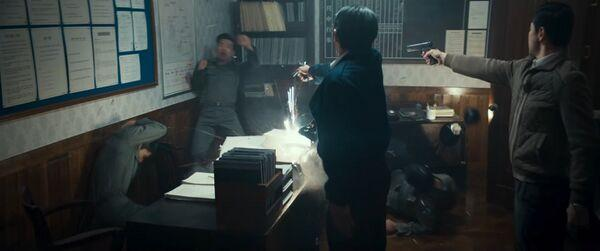Gun: (406, 41, 438, 67), (291, 63, 309, 81)
